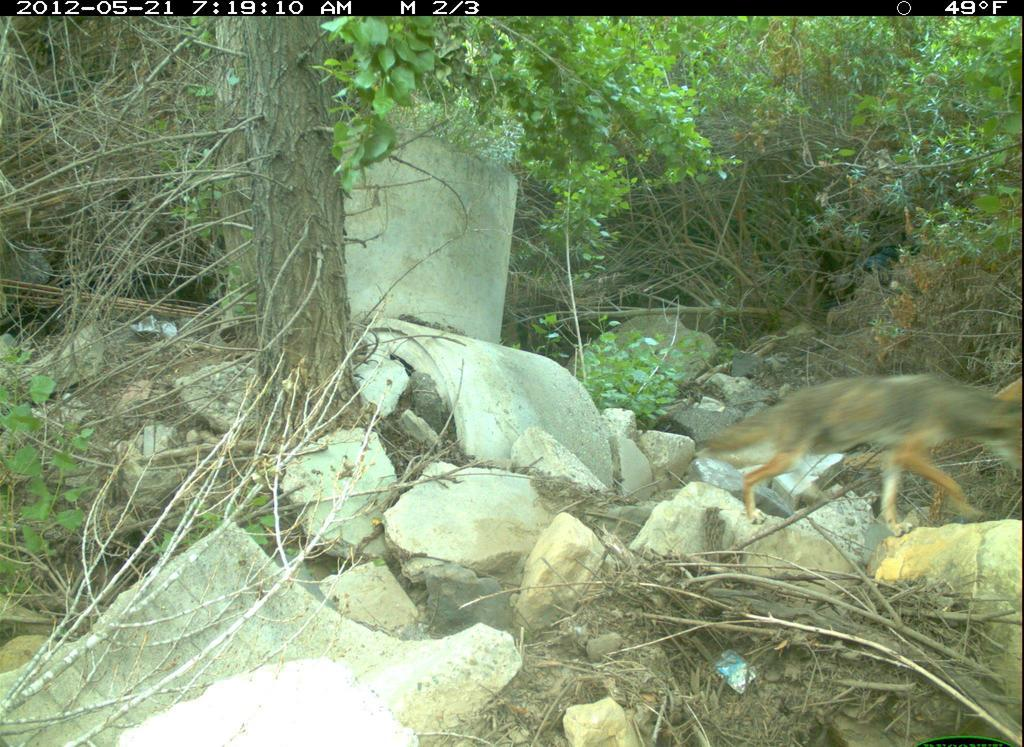coyote: (685, 368, 1023, 538)
